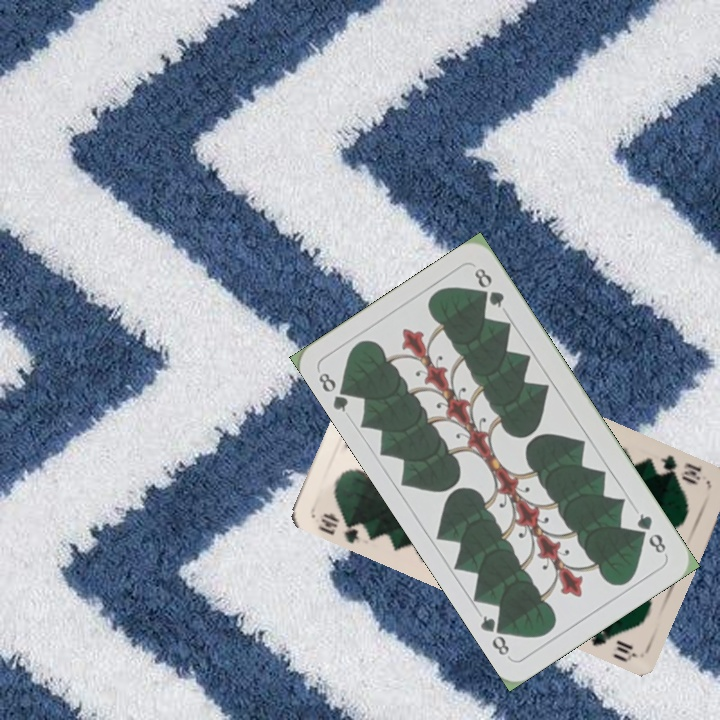G10: (314, 508, 371, 545), (656, 450, 704, 488)
G8: (314, 368, 356, 415), (632, 509, 669, 556)
